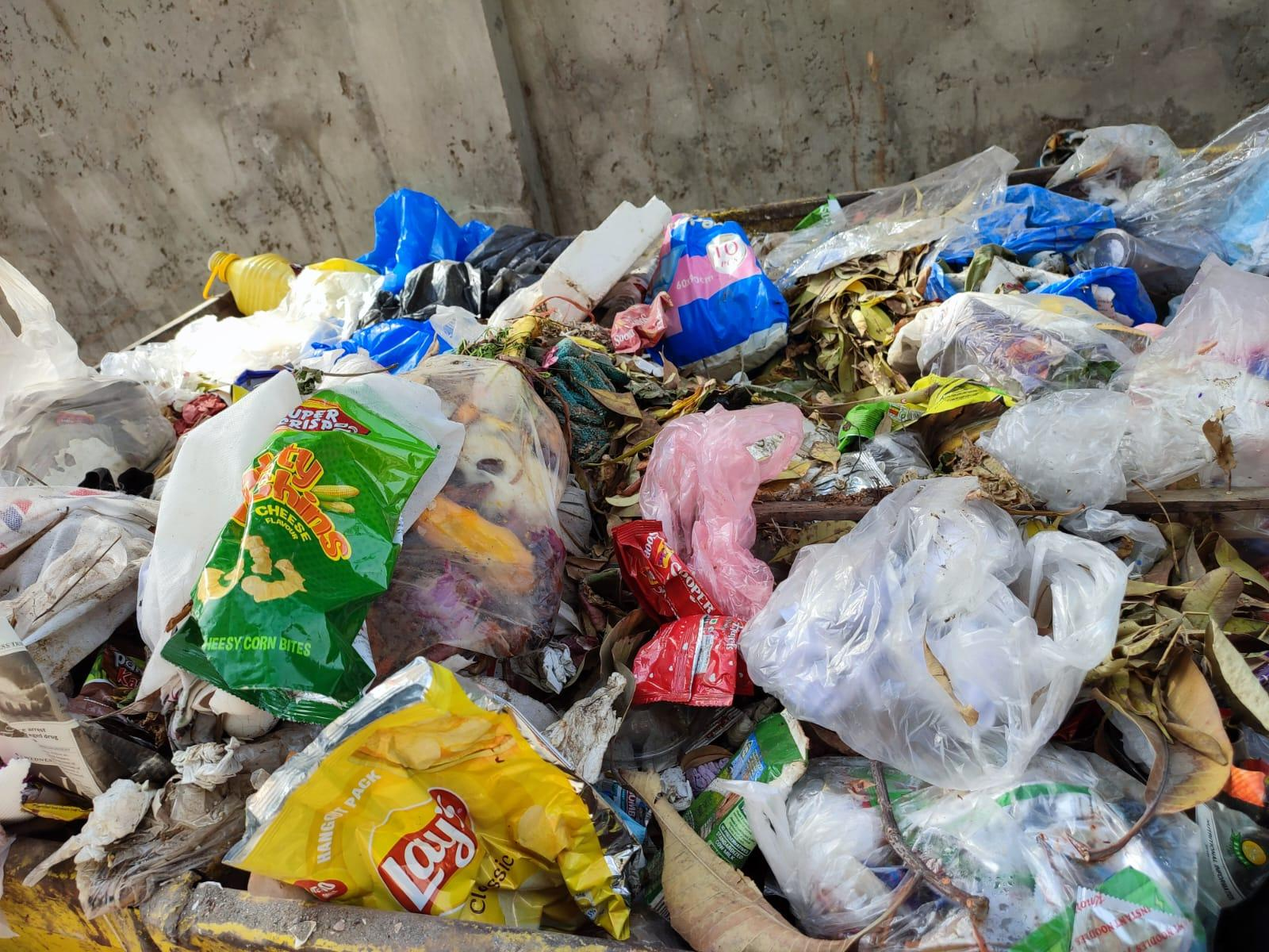garbage: (5, 168, 1269, 952)
